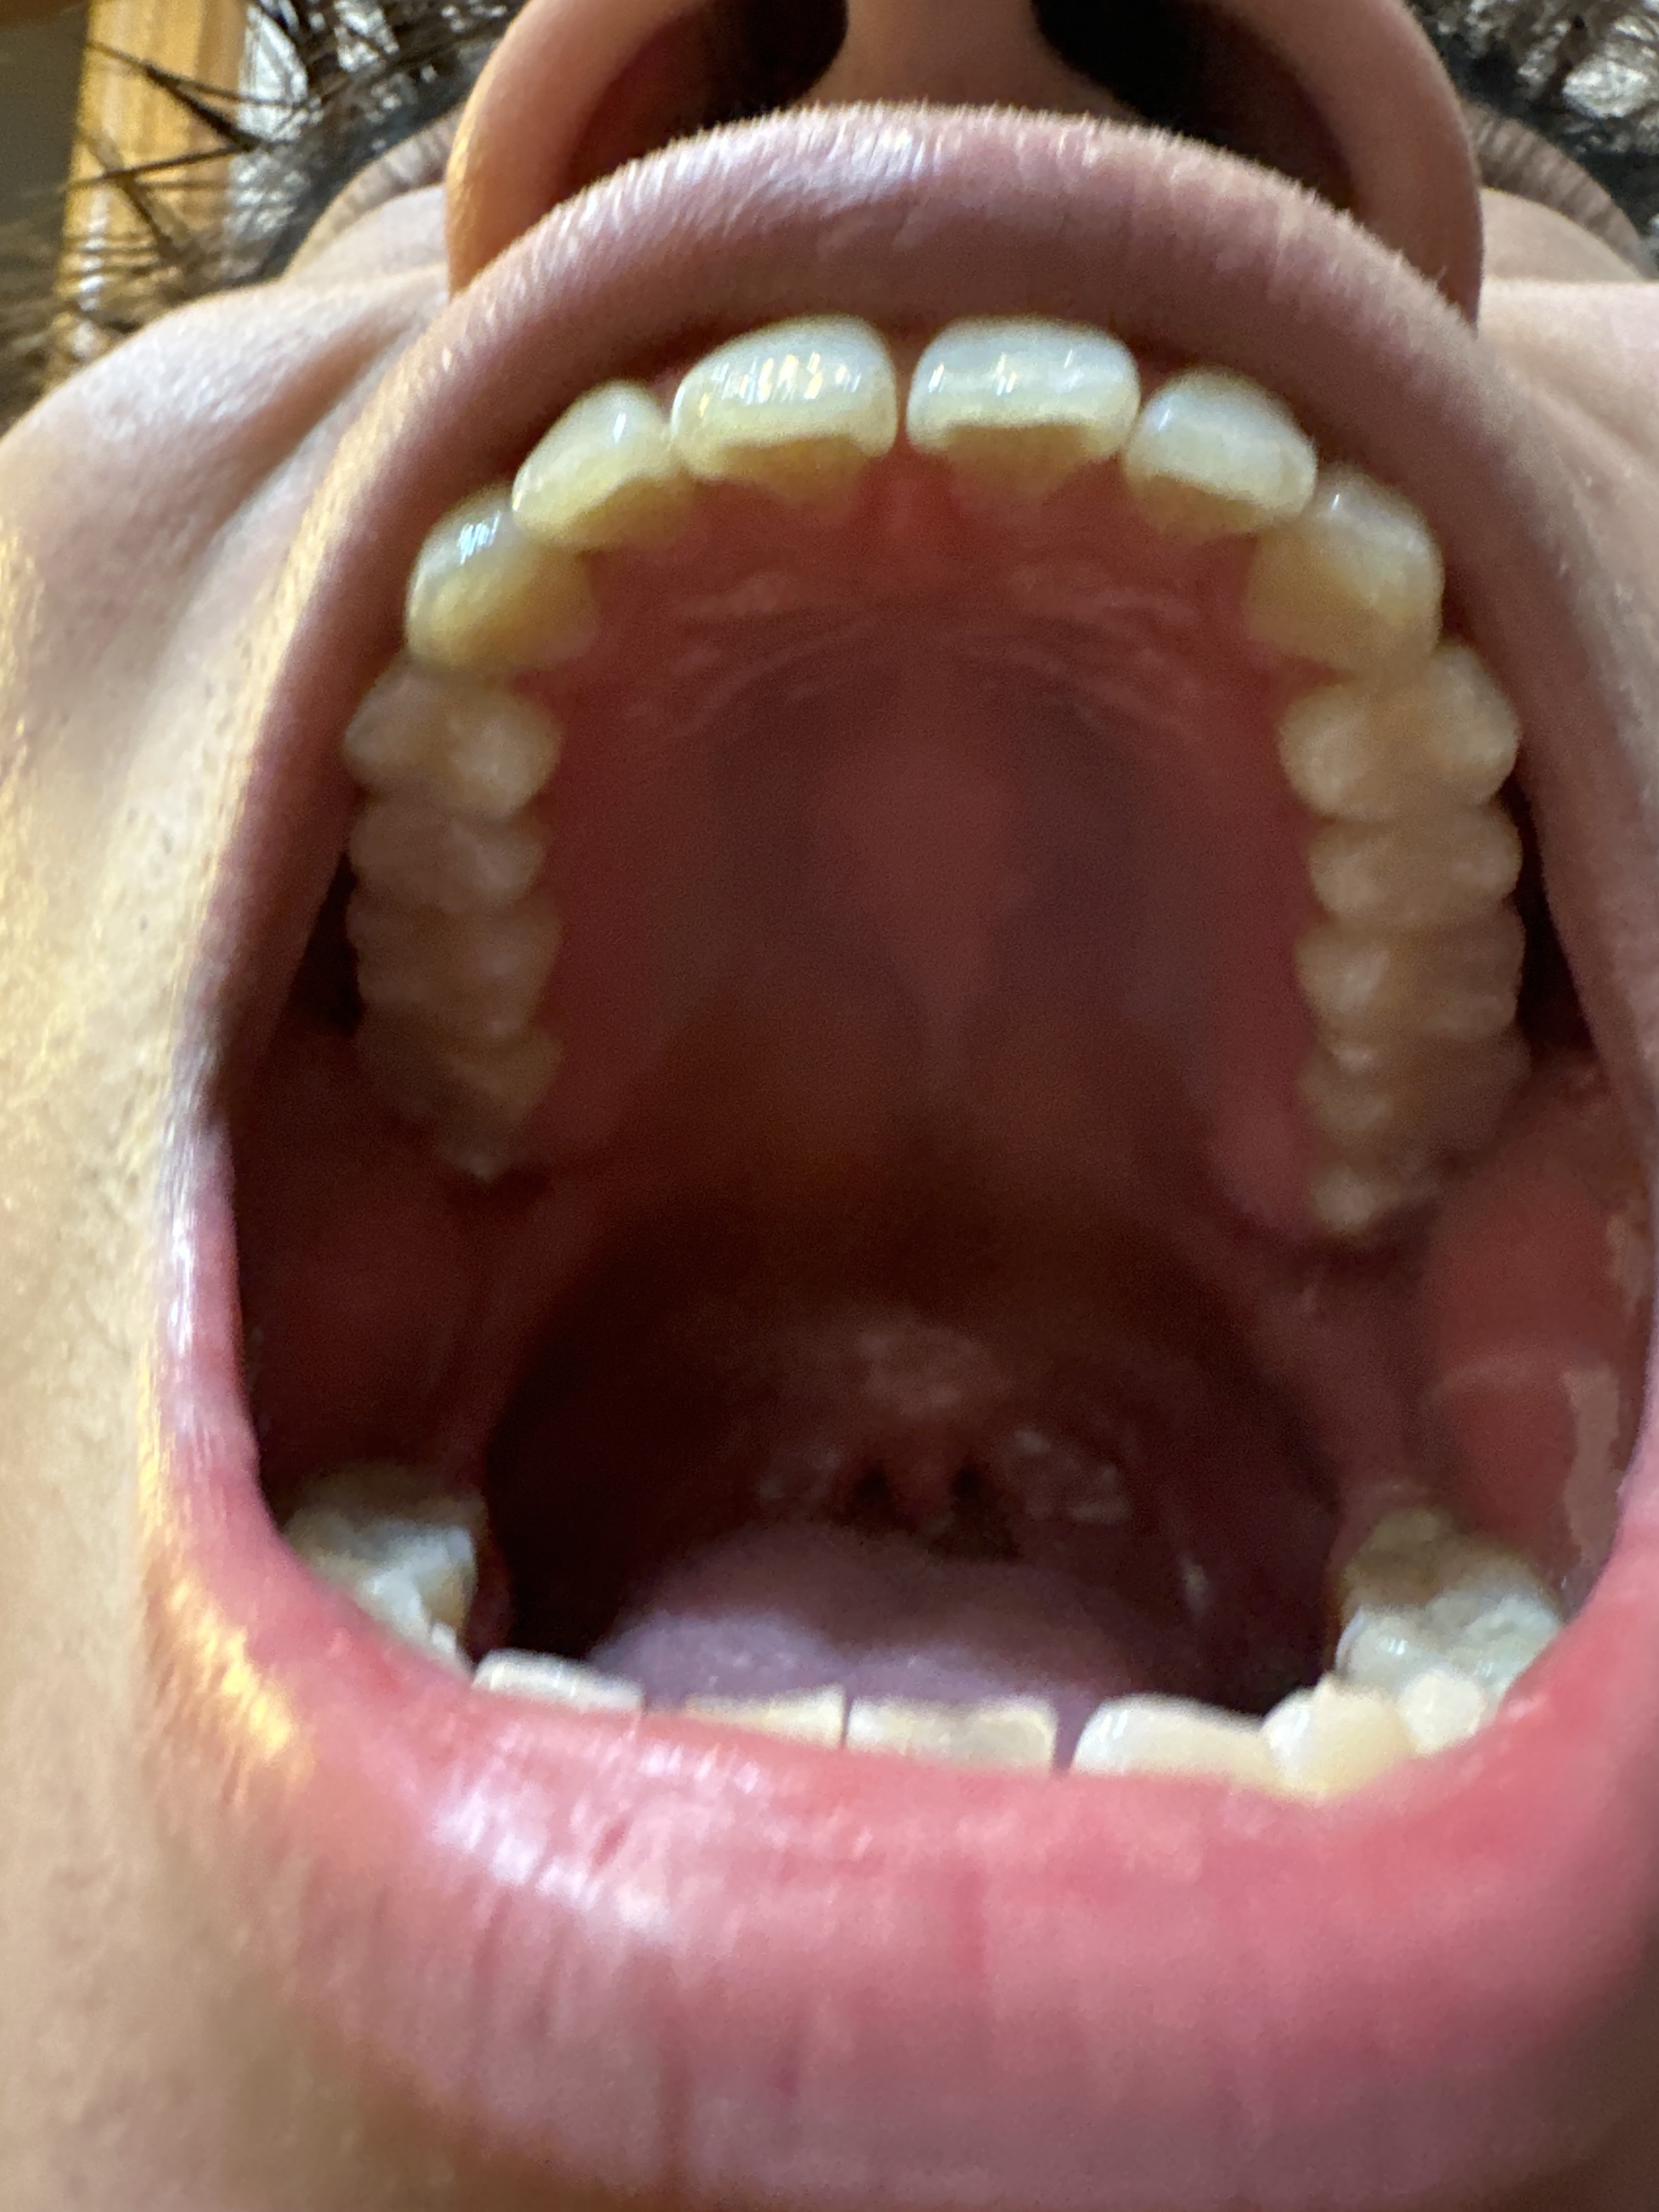teeth: (1265, 470, 1455, 676), (1295, 650, 1521, 820), (669, 334, 884, 505), (416, 477, 598, 671), (936, 324, 1131, 502), (516, 381, 688, 550), (1131, 369, 1293, 549), (1310, 921, 1513, 1062), (383, 664, 552, 820), (1314, 819, 1511, 930), (361, 817, 542, 923)
